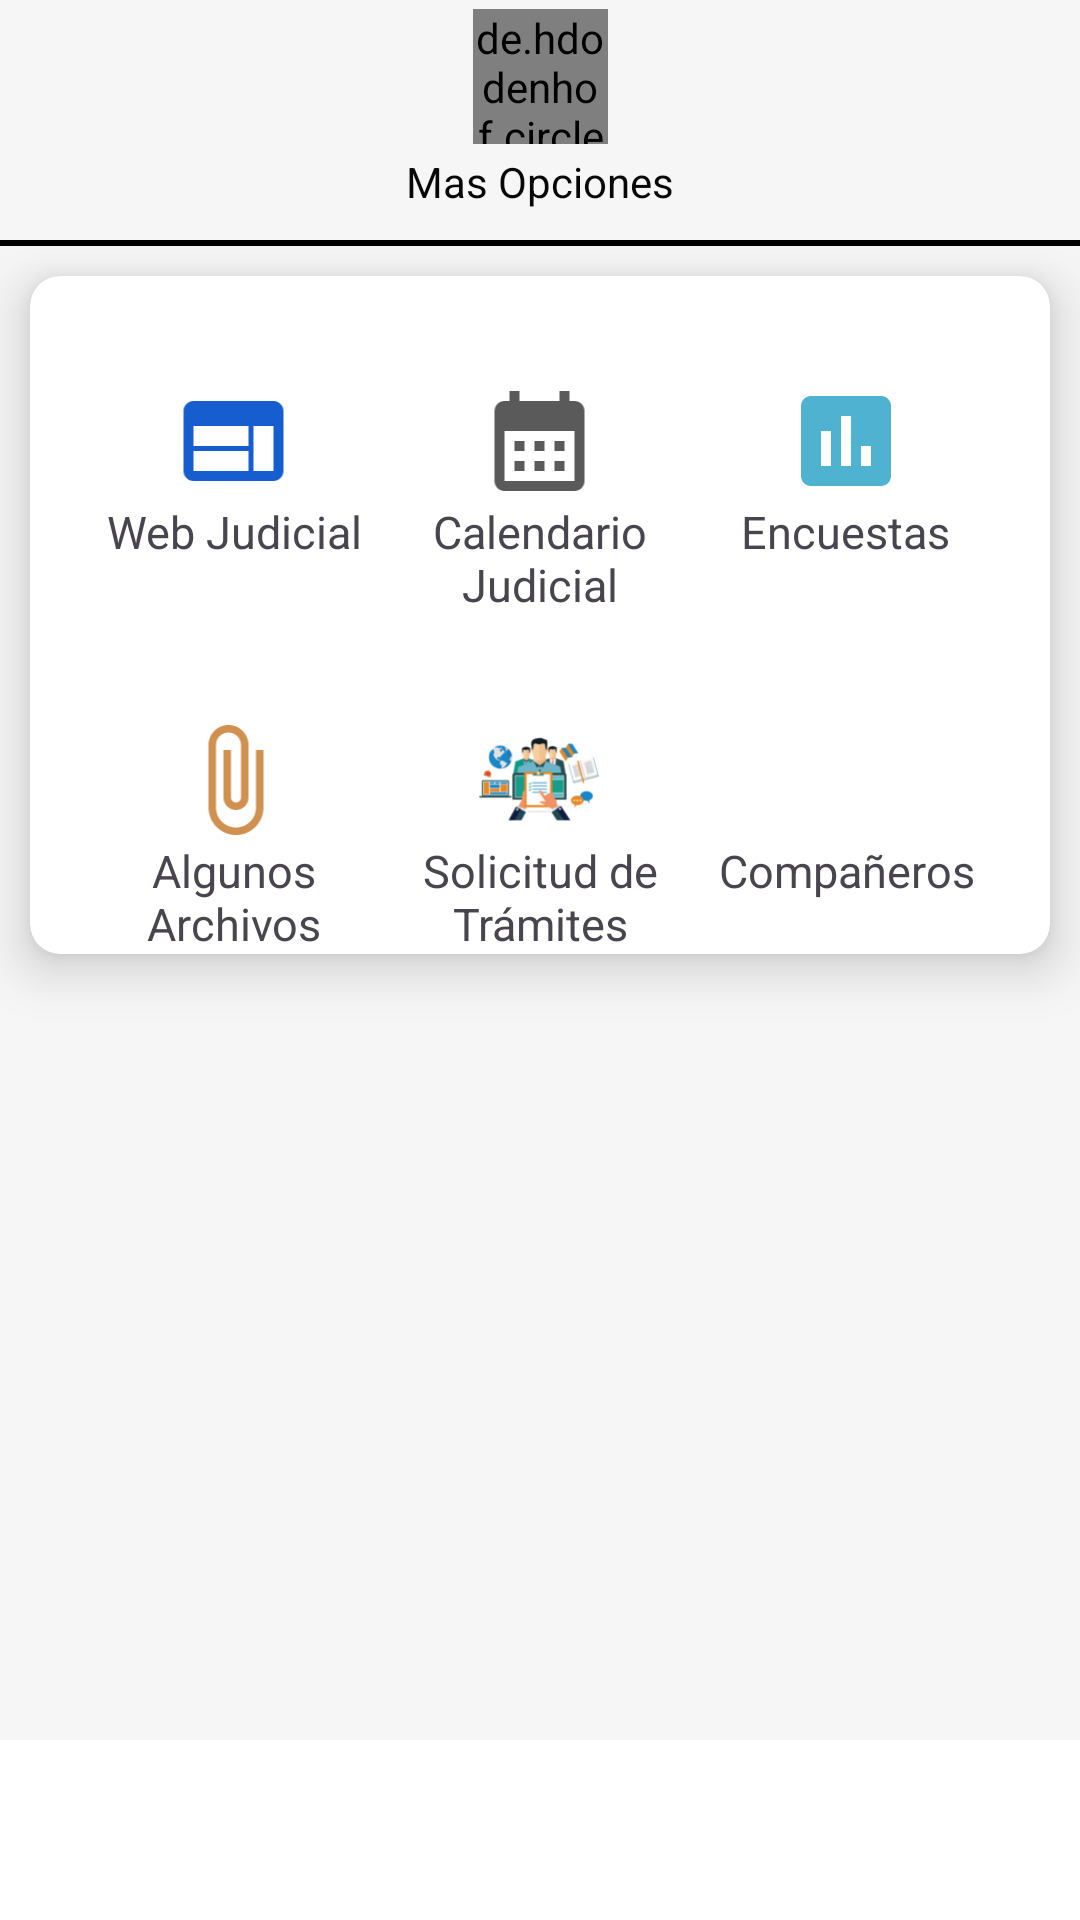

Named icons in this screenshot (1080w x 1920h) and their centers, (x=x, y=y):
file: (x=236, y=780)
poll: (x=846, y=441)
recursos humano: (x=539, y=779)
